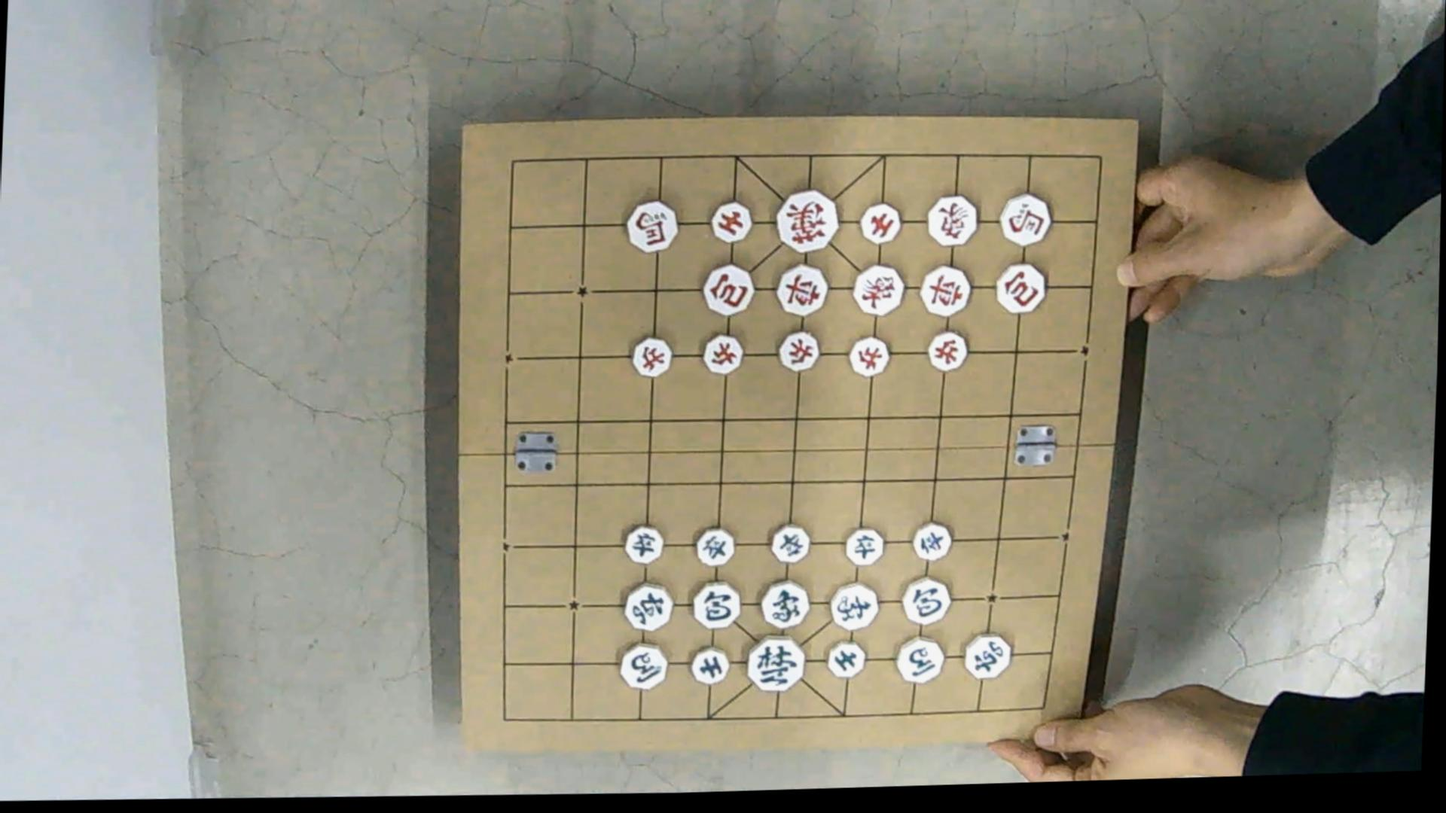cha_green: (621, 580, 673, 631), (963, 633, 1011, 678)
cha_red: (776, 263, 827, 315), (920, 264, 971, 316)
jol_green: (770, 522, 810, 563), (694, 526, 734, 566), (622, 524, 663, 563), (844, 527, 883, 565), (913, 521, 952, 559)
jol_red: (926, 329, 968, 371), (778, 329, 819, 371), (701, 332, 743, 373), (630, 335, 671, 376), (848, 335, 888, 376)
ma_green: (894, 635, 944, 683), (617, 641, 667, 689)
ma_red: (625, 199, 677, 252), (999, 192, 1050, 245)
po_green: (689, 580, 742, 629), (901, 576, 951, 624)
po_red: (701, 263, 754, 315), (994, 261, 1046, 312)
sa_green: (825, 639, 866, 678), (688, 645, 729, 684)
sa_red: (711, 199, 752, 243), (859, 201, 901, 243)
sang_green: (758, 578, 810, 629), (828, 581, 880, 630)
sang_red: (852, 263, 904, 315), (926, 193, 977, 245)
wang_green: (744, 634, 805, 692)
wang_red: (775, 187, 838, 253)
